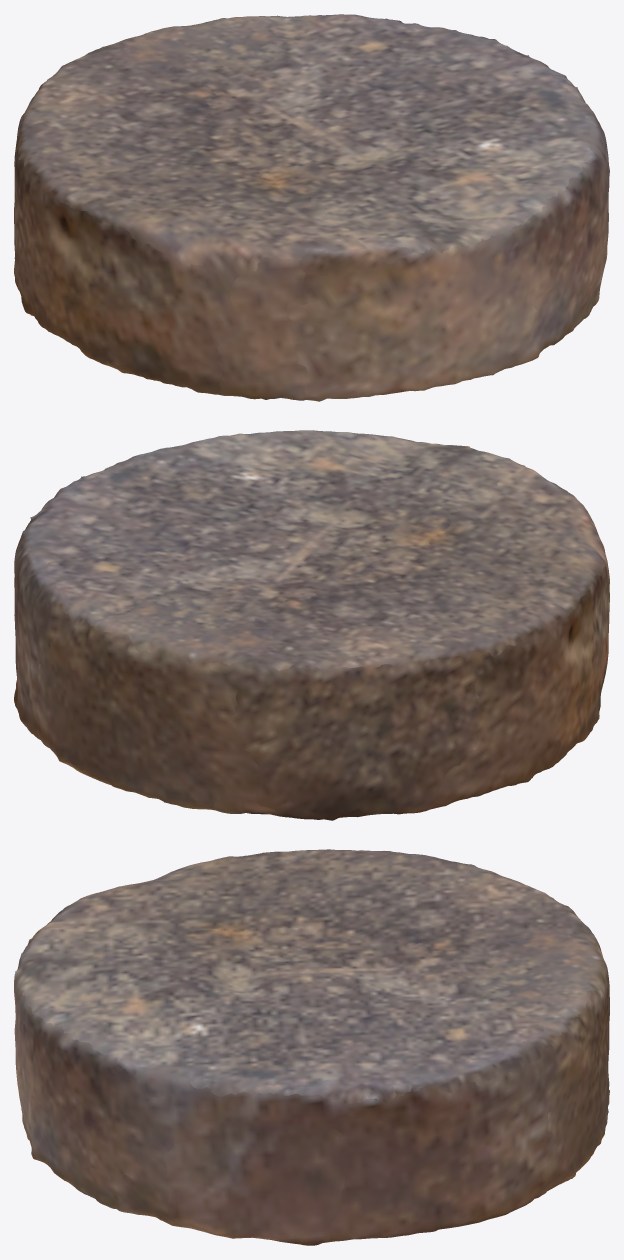
File: cast_iron_weight-_texture_test.glb
3 renders of one model, top to bottom at view 1: azimuth 30°, elevation 25°; view 2: azimuth 150°, elevation 25°; view 3: azimuth 270°, elevation 25°, orthographic.
Parts seen in each view (by area): view 1: Object_2; view 2: Object_2; view 3: Object_2.
Part boxes in pixels (x1,y1,x2,y2): Object_2: [14, 14, 609, 401]; Object_2: [14, 430, 609, 820]; Object_2: [14, 849, 609, 1245].
Size of the model in its own units: 0.0647 by 0.0189 by 0.0644.
Materials: 1 (1 with a texture image).
